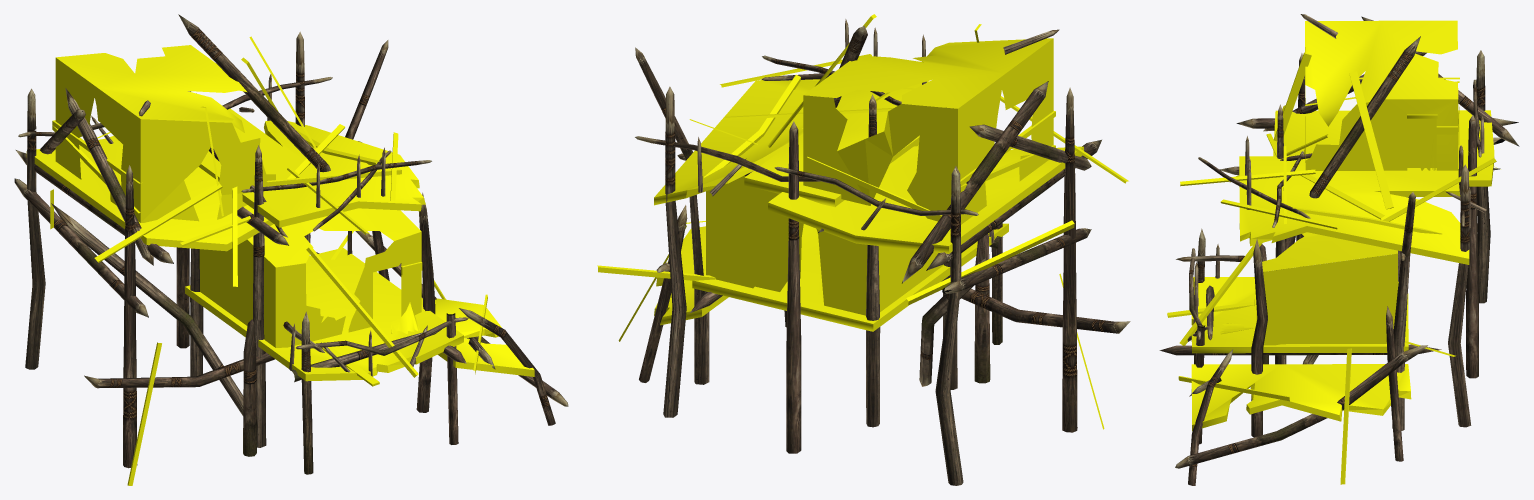
The model's file is gaint_builda_08_d.glb.
3 renders of one model, left to right at view 1: azimuth 30°, elevation 25°; view 2: azimuth 150°, elevation 25°; view 3: azimuth 270°, elevation 25°, orthographic. The views are drawn at different scales.
Parts seen in each view (by area): view 1: gaint_buildA_08; view 2: gaint_buildA_08; view 3: gaint_buildA_08.
Part boxes in pixels (x1,y1,x2,y2): gaint_buildA_08: [14, 14, 568, 485]; gaint_buildA_08: [597, 14, 1130, 485]; gaint_buildA_08: [1159, 14, 1519, 485].
Bounding box in the file's own units: 21.54 × 18.62 × 17.62.
2 materials, 2 textured.
